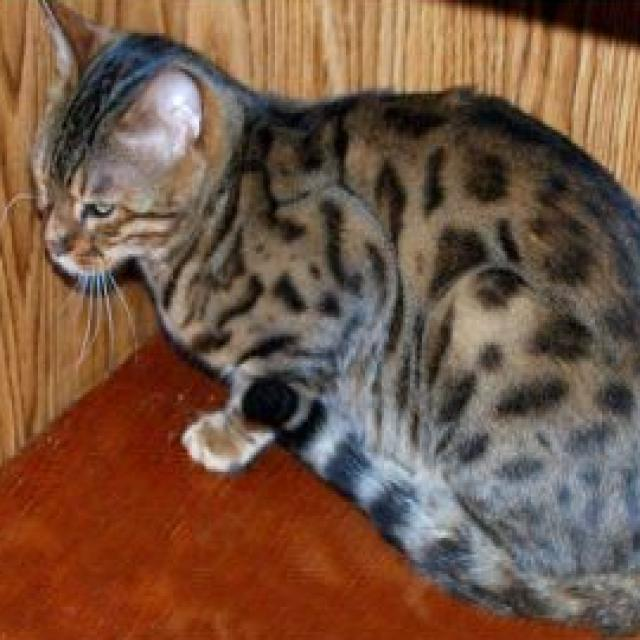Bengal: (26, 0, 640, 629)
